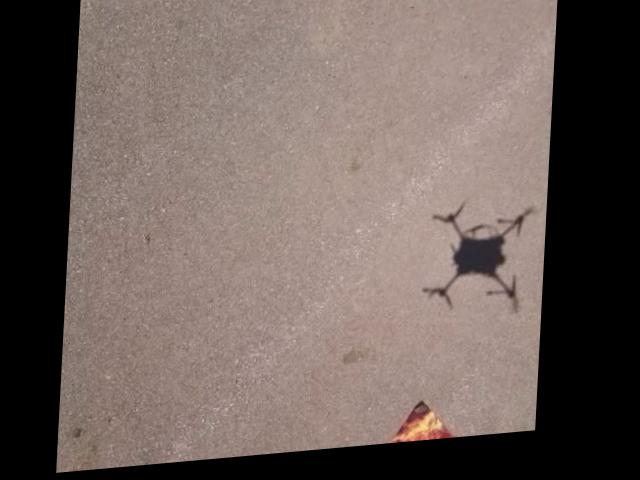fire-poster: (356, 402, 513, 454)
